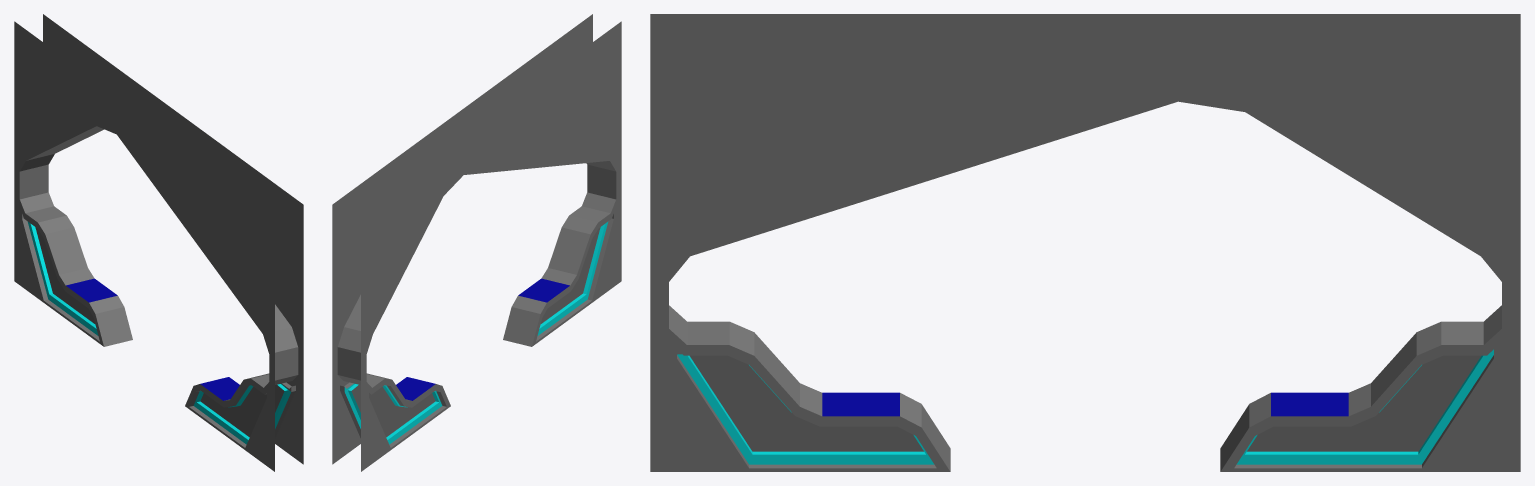
The model's file is Wall_library.fbx.
The picture shows the model from 3 angles, left to right: view 1: azimuth 30°, elevation 25°; view 2: azimuth 150°, elevation 25°; view 3: azimuth 270°, elevation 25°; orthographic projection. The views are drawn at different scales.
Visible parts, largest first — view 1: polySurface2278; view 2: polySurface2278; view 3: polySurface2278.
Part boxes in pixels (x1,y1,x2,y2): polySurface2278: [14, 14, 303, 471]; polySurface2278: [332, 14, 621, 471]; polySurface2278: [650, 14, 1520, 471].
Size of the model in its own units: 6.43 by 55.14 by 100.
